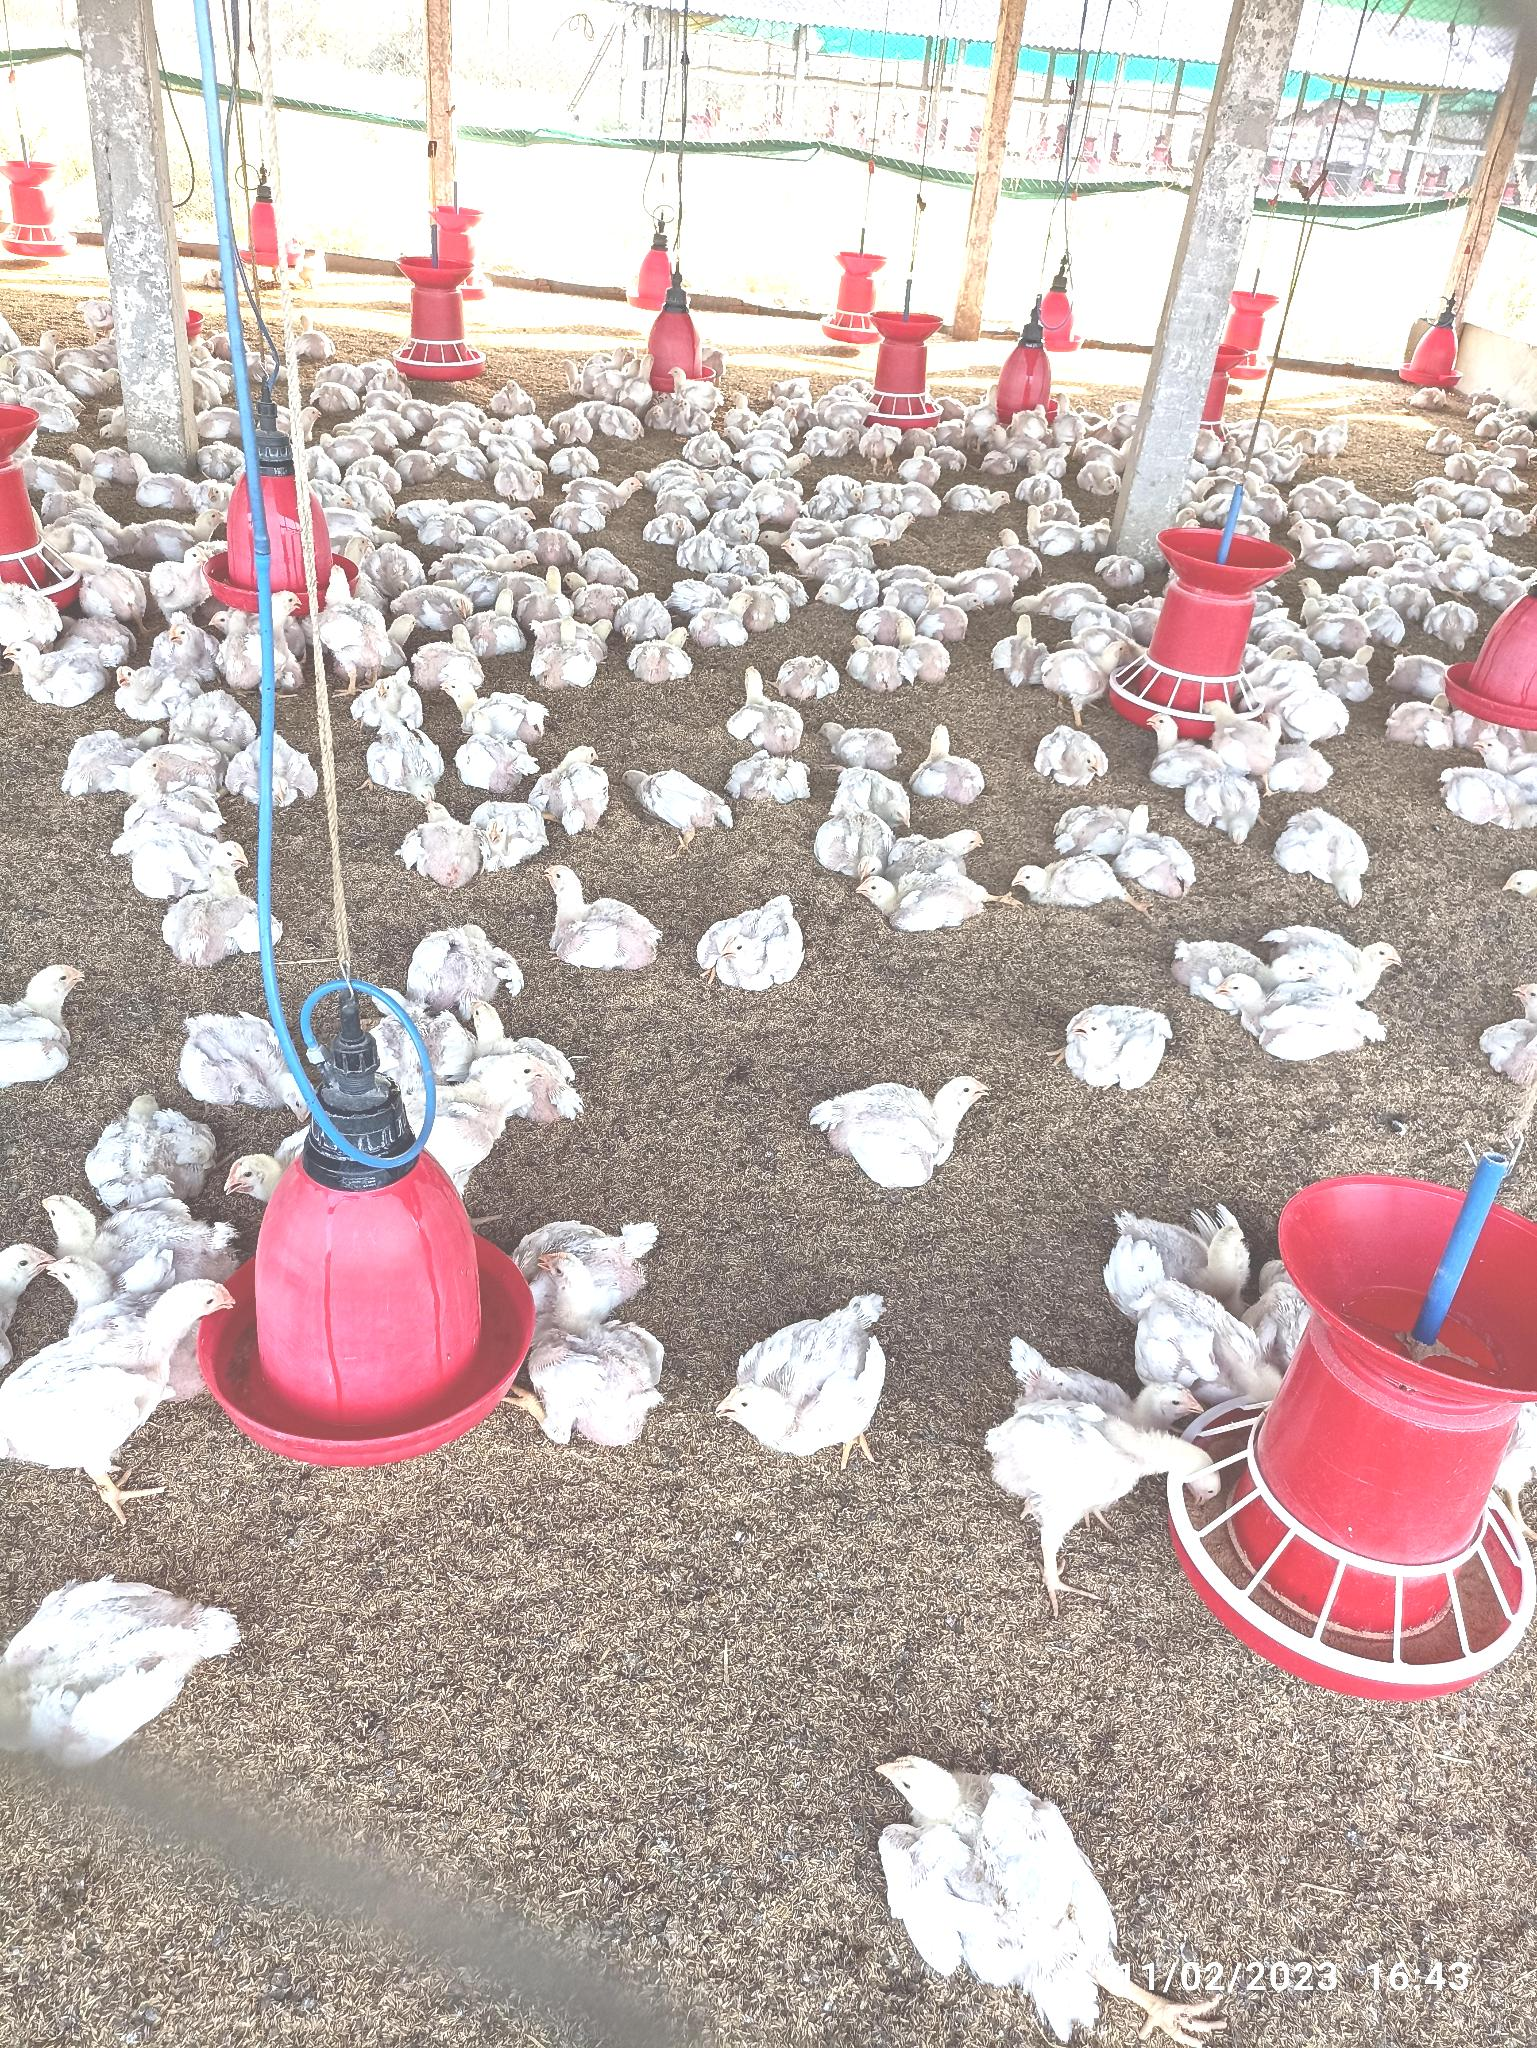Pollos: (877, 1745, 1130, 2001), (2, 1277, 223, 1503), (990, 1386, 1224, 1533), (528, 1251, 668, 1443), (722, 1309, 878, 1449), (819, 1068, 990, 1178), (534, 863, 664, 972), (1209, 972, 1384, 1051), (153, 841, 283, 947), (1271, 804, 1392, 904), (701, 883, 806, 996), (3, 959, 90, 1078), (852, 868, 1006, 934), (622, 759, 744, 841), (1061, 1009, 1171, 1081), (394, 807, 488, 888), (1003, 857, 1143, 907), (1204, 700, 1287, 776), (10, 641, 113, 700), (920, 720, 990, 800), (1037, 731, 1120, 794), (465, 720, 528, 791), (990, 620, 1062, 679), (815, 726, 903, 763), (625, 633, 697, 673), (780, 650, 844, 696)
